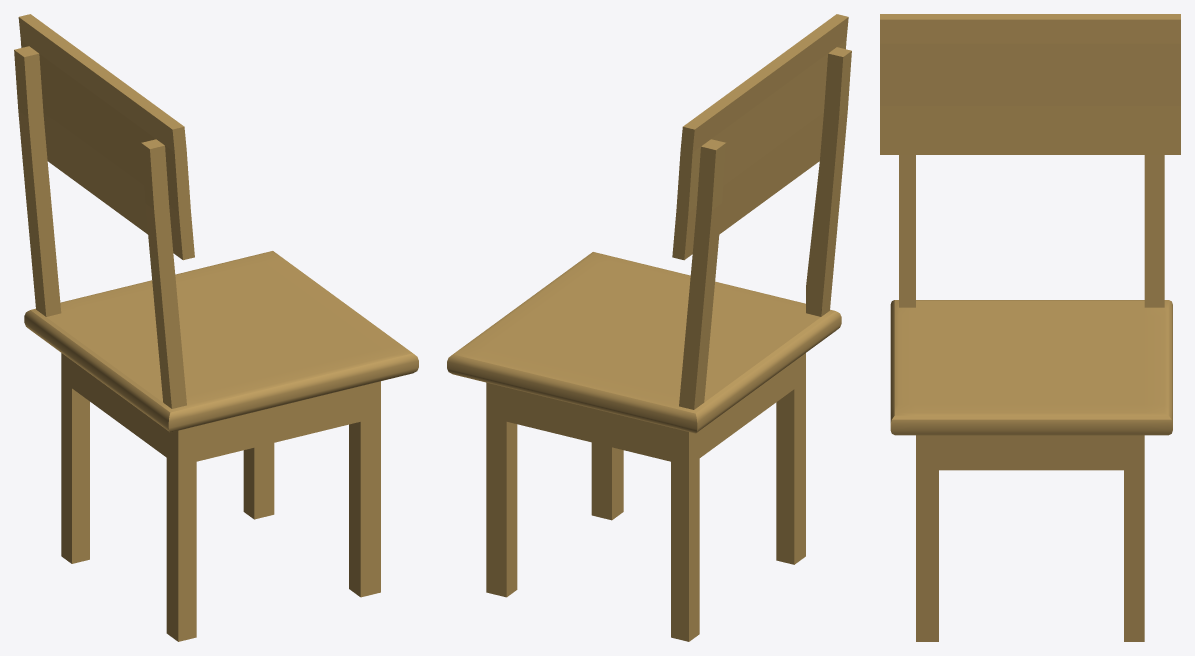
The model's file is chair.fbx.
3 renders of one model, left to right at view 1: azimuth 30°, elevation 25°; view 2: azimuth 150°, elevation 25°; view 3: azimuth 270°, elevation 25°, orthographic. The views are drawn at different scales.
Parts seen in each view (by area): view 1: chair; view 2: chair; view 3: chair.
Part boxes in pixels (bbox=[...]): chair: bbox=[14, 14, 418, 641]; chair: bbox=[447, 14, 851, 641]; chair: bbox=[880, 14, 1180, 641].
Size of the model in its own units: 3.03 by 5.81 by 3.05.
1 material, 1 textured.
